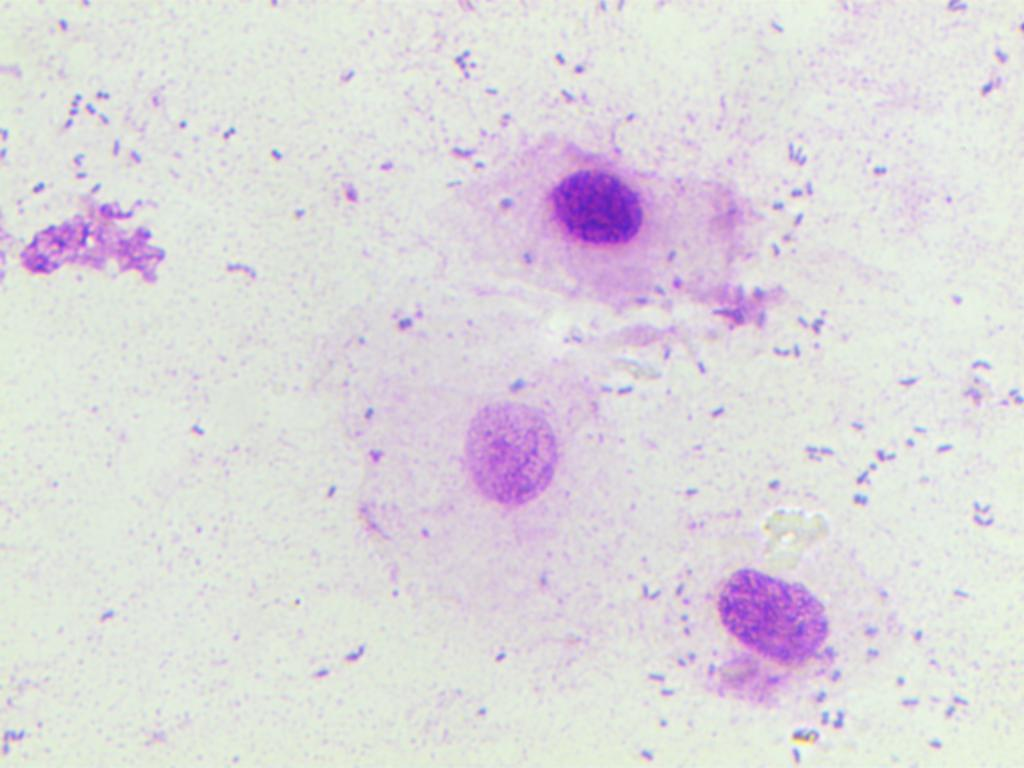artifact: (14, 167, 173, 336)
epithelial: (693, 553, 863, 681), (448, 371, 583, 519), (528, 149, 662, 259)
